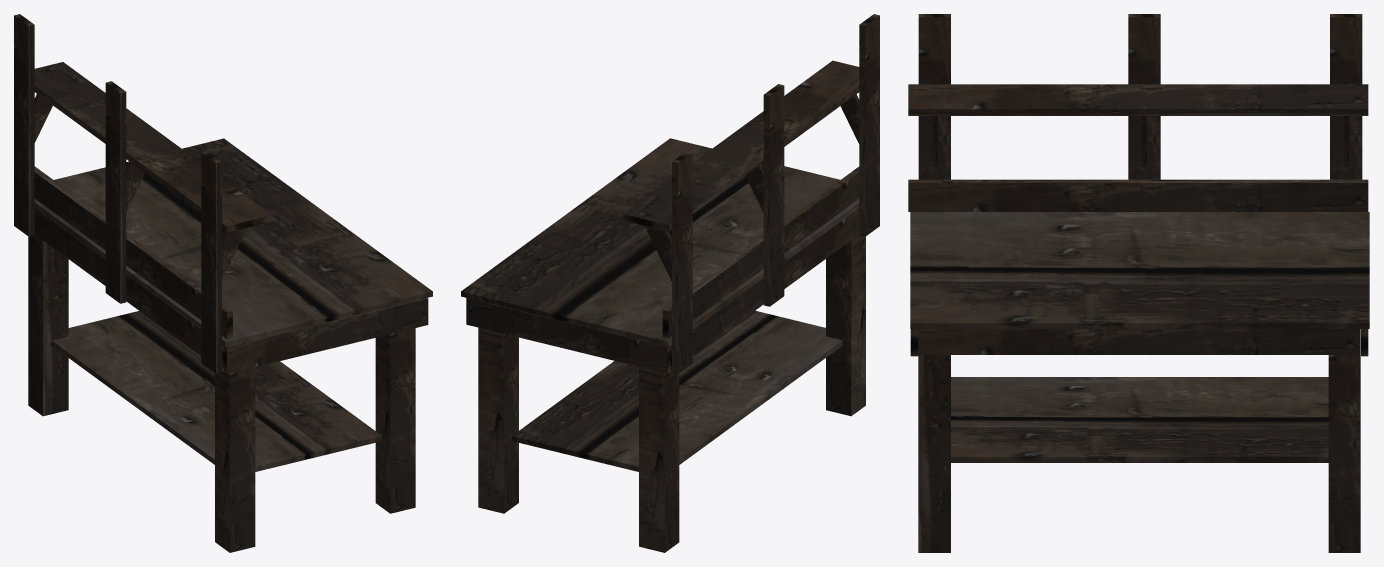
Rendered from SM_Forge_Table_2.FBX.
3 renders of one model, left to right at view 1: azimuth 30°, elevation 25°; view 2: azimuth 150°, elevation 25°; view 3: azimuth 270°, elevation 25°, orthographic. The views are drawn at different scales.
Visible parts, largest first — view 1: SM_Forge_Table_2; view 2: SM_Forge_Table_2; view 3: SM_Forge_Table_2.
Part boxes in pixels (x1,y1,x2,y2): SM_Forge_Table_2: [14, 14, 432, 552]; SM_Forge_Table_2: [461, 14, 879, 552]; SM_Forge_Table_2: [908, 14, 1369, 552].
Size of the model in its own units: 84.49 by 144 by 149.
